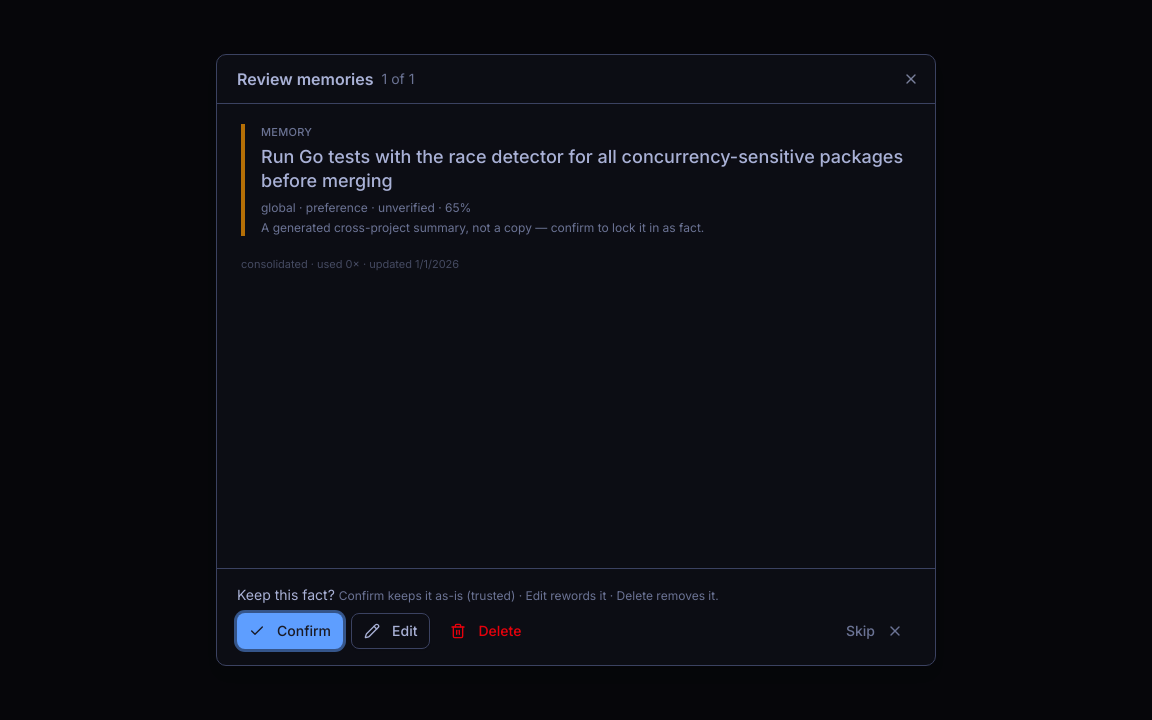
Test: MemoryReview › refines the draft with AI via a preset chip
Click the button "Edit". click: [391, 631]
box: [351,613,430,649]
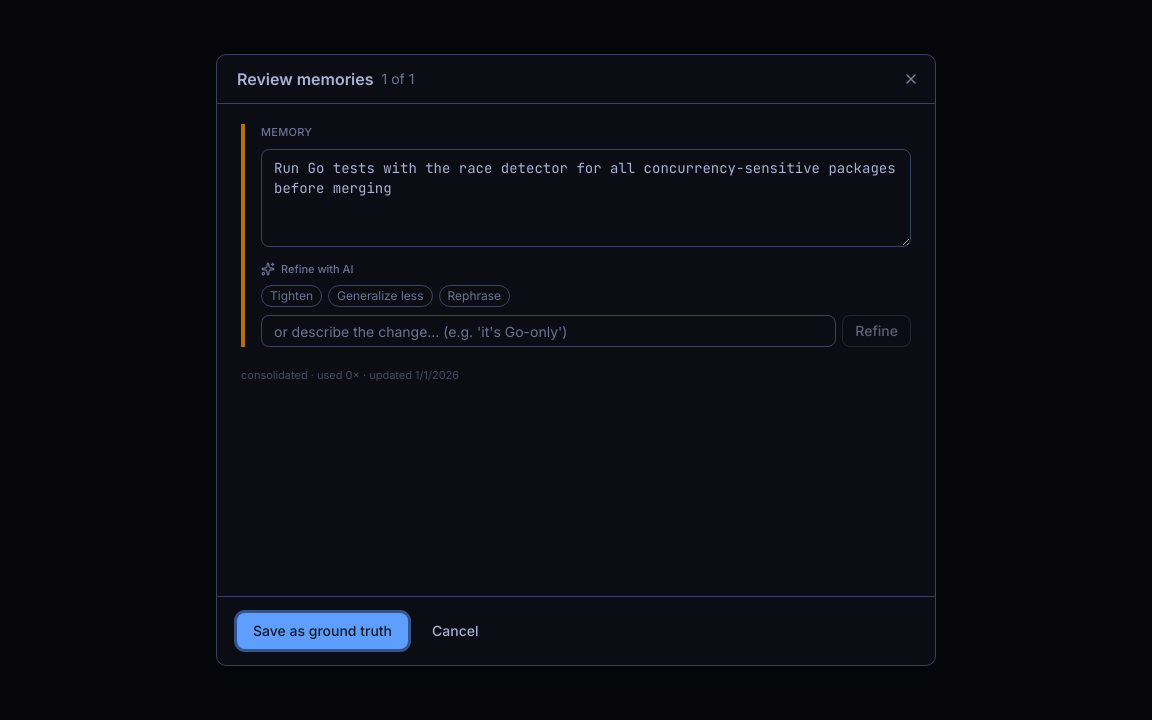
Now the text box showing "Run Go tests with the race detector for all concurrency-sensitive packages before merging" is shown, box [261,148,911,246]
Click the button "Tighten". click: [292, 296]
box: [261,285,322,307]
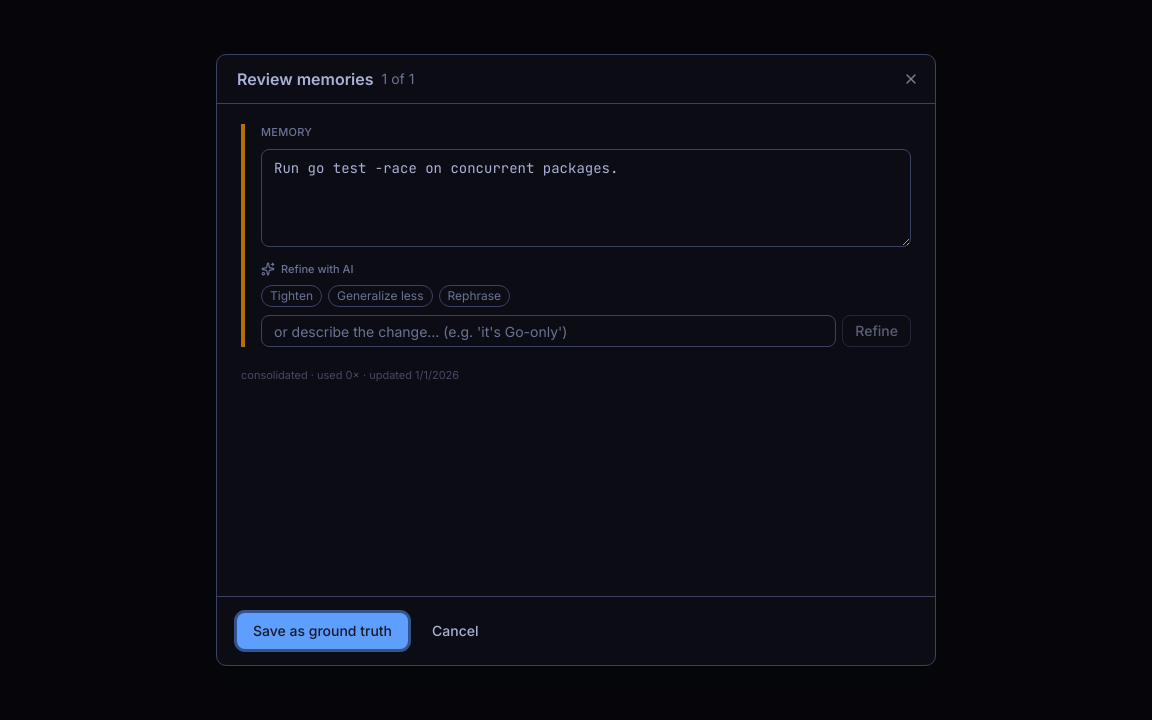
Now the text box showing "Run go test -race on concurrent packages." is shown, box [261,148,911,246]
